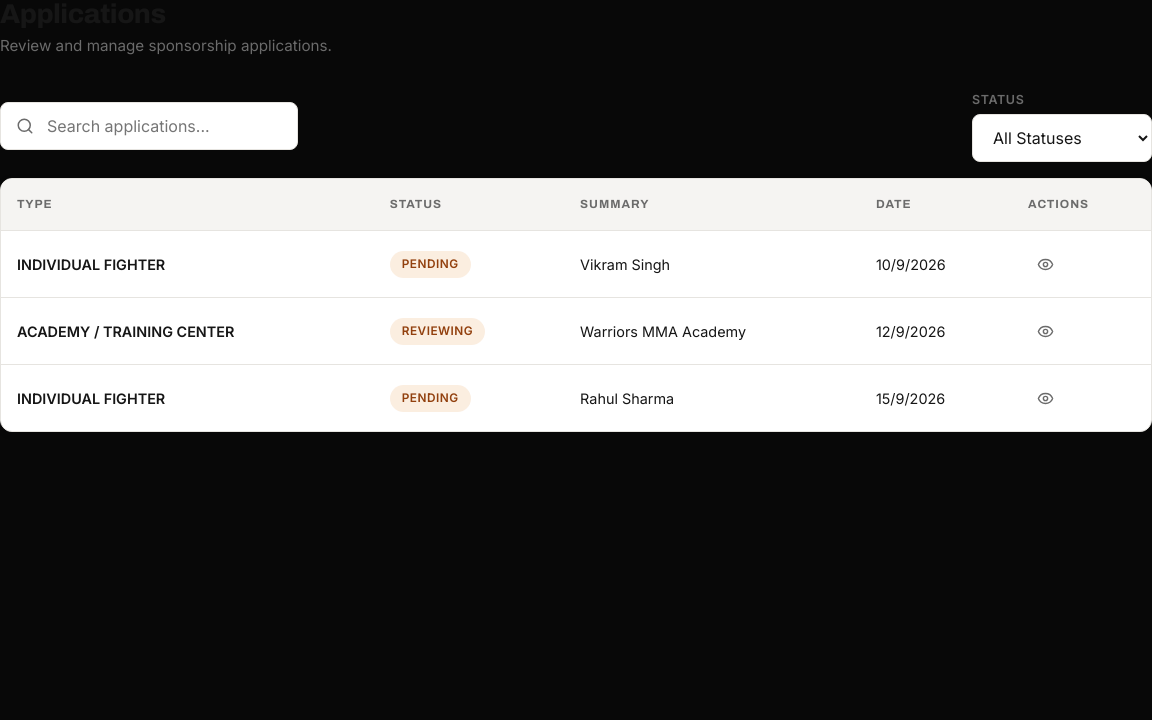
AdminApplications supporting documents detail › renders attached supporting documents in application detail modal
The image size is (1152, 720).
# Open detail for Vikram Singh
Click the text "Vikram Singh" at point(712, 264), box x1=564 y1=231 x2=860 y2=298
(page scrolled)
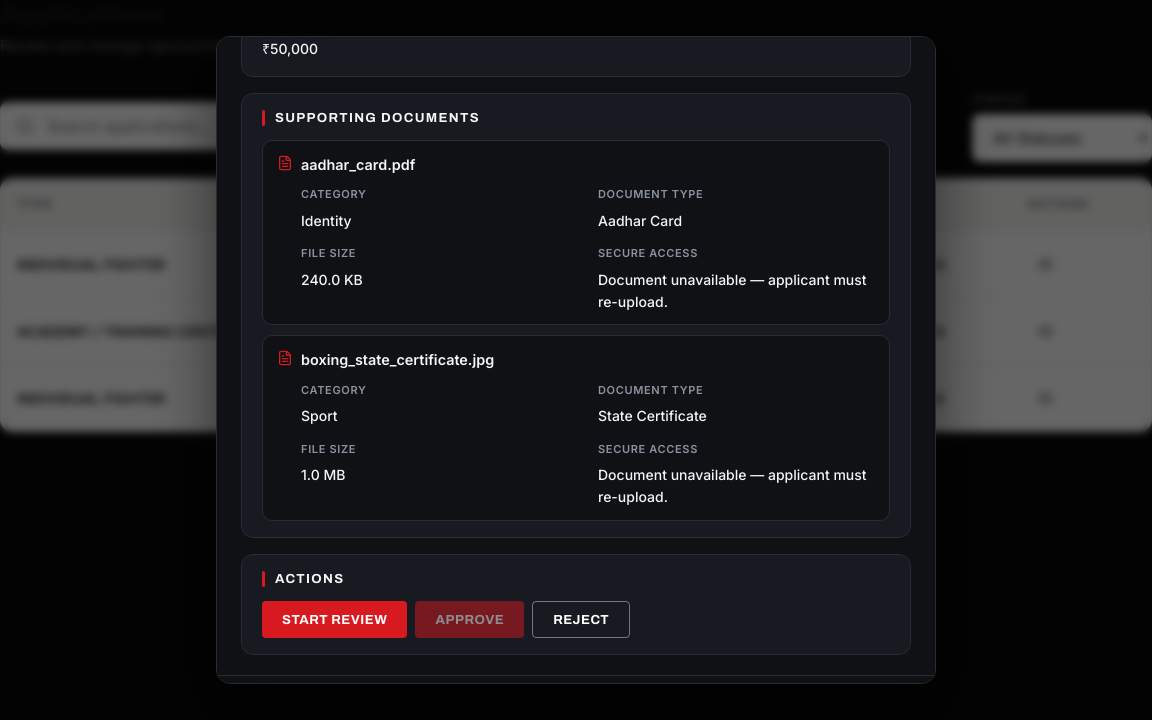
Result: the heading "Supporting Documents" is shown at x1=275 y1=110 x2=480 y2=125
Result: the text "aadhar_card.pdf" is shown at x1=301 y1=156 x2=415 y2=173
Result: the text "boxing_state_certificate.jpg" is shown at x1=301 y1=352 x2=494 y2=368
